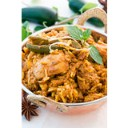briyani: (24, 30, 105, 100)
